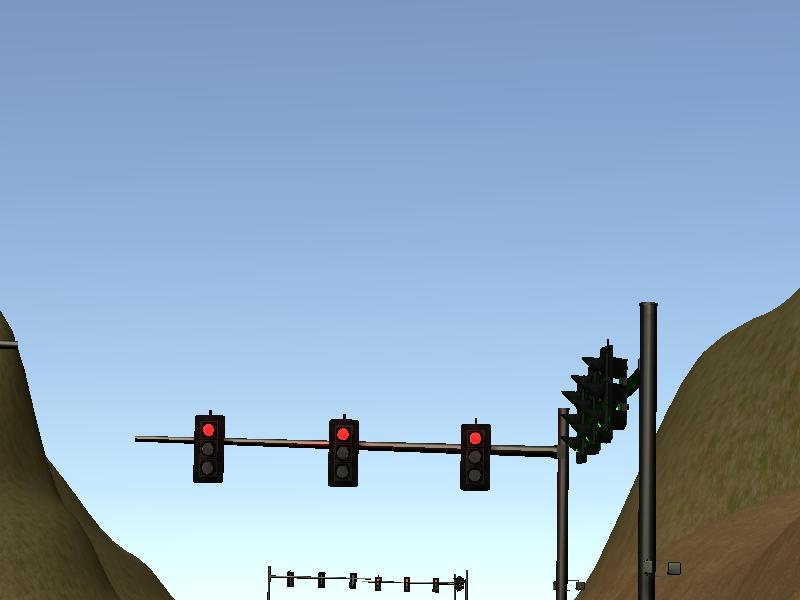Red: (457, 422, 491, 491), (327, 418, 361, 487), (191, 414, 225, 483)
